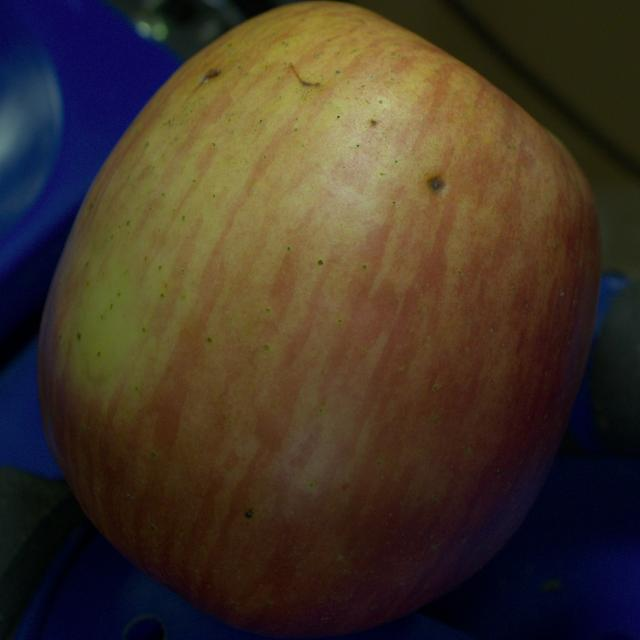apple: (38, 2, 600, 636)
pest: (199, 69, 221, 86), (428, 176, 444, 192)
scratch: (289, 63, 319, 85)
